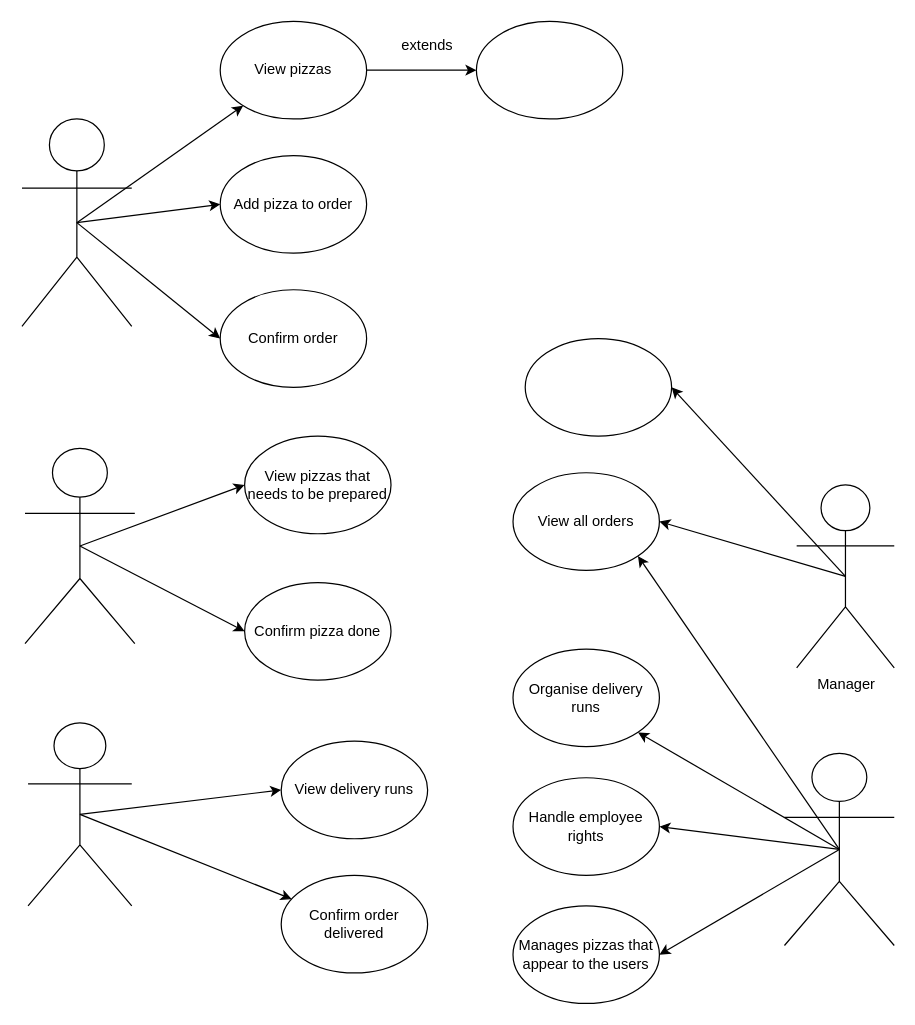
This 915x1025 diagram has some shape labels left out. Here are the shapes that lost their labels. From the top down, the centre of each, then its label:
At (x=549, y=69): "Search pizza".
At (x=76, y=222): "User".
At (x=598, y=386): "Select pizza scheduler".
At (x=79, y=545): "Kitchcen staff".
At (x=79, y=814): "Delivery guy".
At (x=838, y=849): "Administrator".
